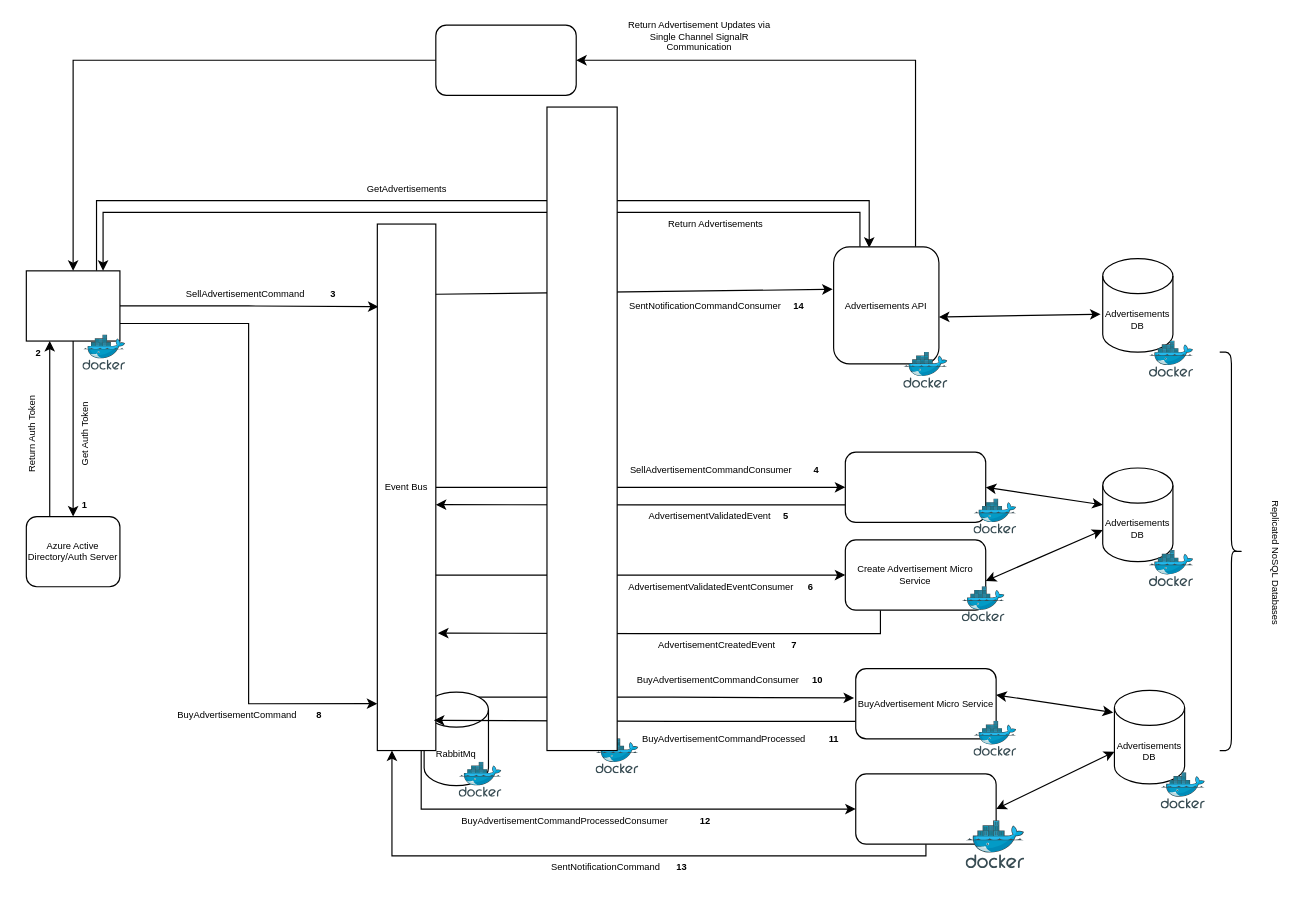
Image size: 1307x900. Some labels were removed from this diagram. Each missing label, with the centre of its shape:
Advertisement Web UI: point 72,305
API GATEWAY: point 581,428
Notification Micro Service: point 925,808
SignalR Omni Channel: point 505,59
Validate Advertisement Micro Service: point 915,486
